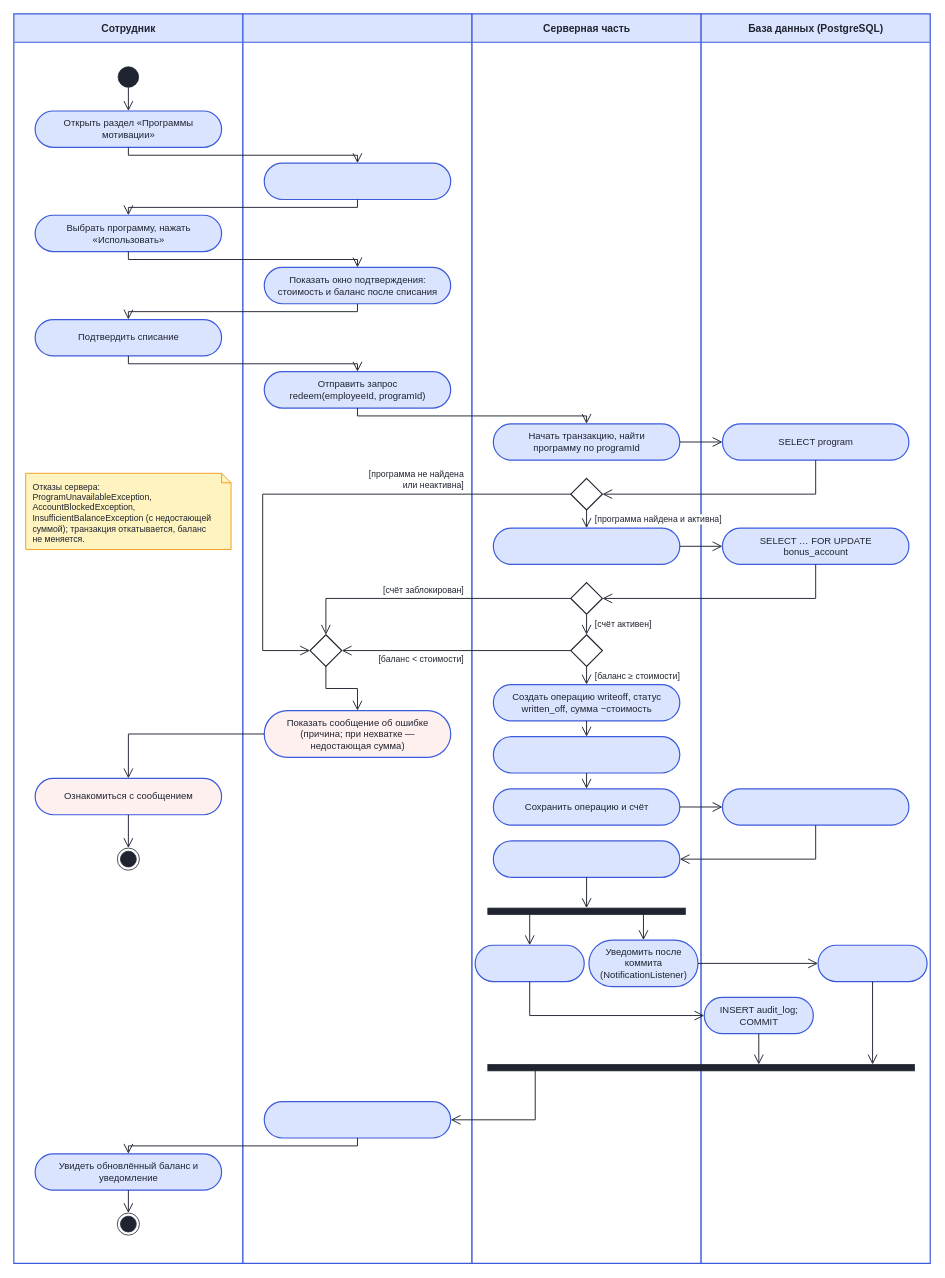
Image size: 945x1278. Some labels were removed from this diagram. Here are the shapes that lost their labels. From the top down, the box of each, then its label:
(263, 162, 451, 200): Загрузить каталог программ и баланс счёта
(492, 527, 680, 565): Заблокировать бонусный счёт сотрудника
(242, 13, 472, 1264): Клиентская часть (SPA)
(492, 736, 680, 773): Уменьшить баланс: applyDelta(−стоимость)
(722, 788, 909, 825): INSERT operation; UPDATE bonus_account
(492, 840, 680, 878): Опубликовать OperationRegisteredEvent
(474, 944, 584, 982): Записать аудит (AuditListener)
(817, 944, 927, 982): INSERT notification
(263, 1101, 451, 1138): Показать результат: операция и новый баланс
